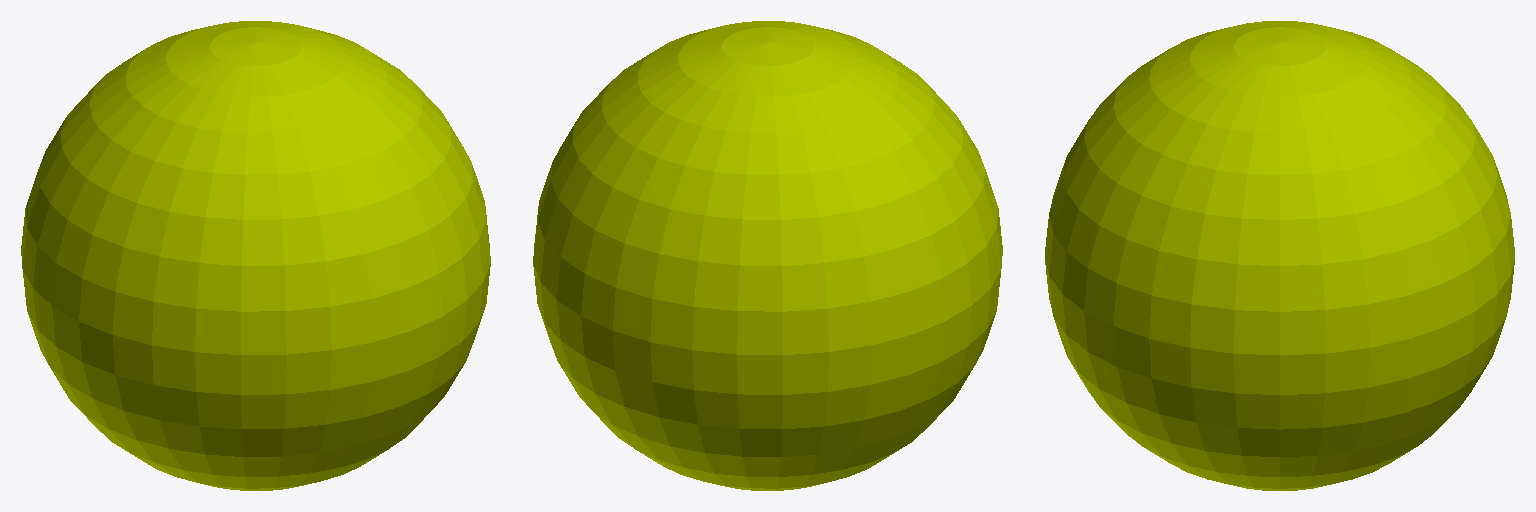
Rendered from Sun.obj.
The picture shows the model from 3 angles: view 1: azimuth 30°, elevation 25°; view 2: azimuth 150°, elevation 25°; view 3: azimuth 270°, elevation 25°; orthographic projection.
Visible parts, largest first — view 1: Sphere; view 2: Sphere; view 3: Sphere.
Part boxes in pixels (x1,y1,x2,y2): Sphere: (21,21,490,490); Sphere: (533,21,1002,490); Sphere: (1045,21,1514,490).
Size of the model in its own units: 10 by 10 by 10.